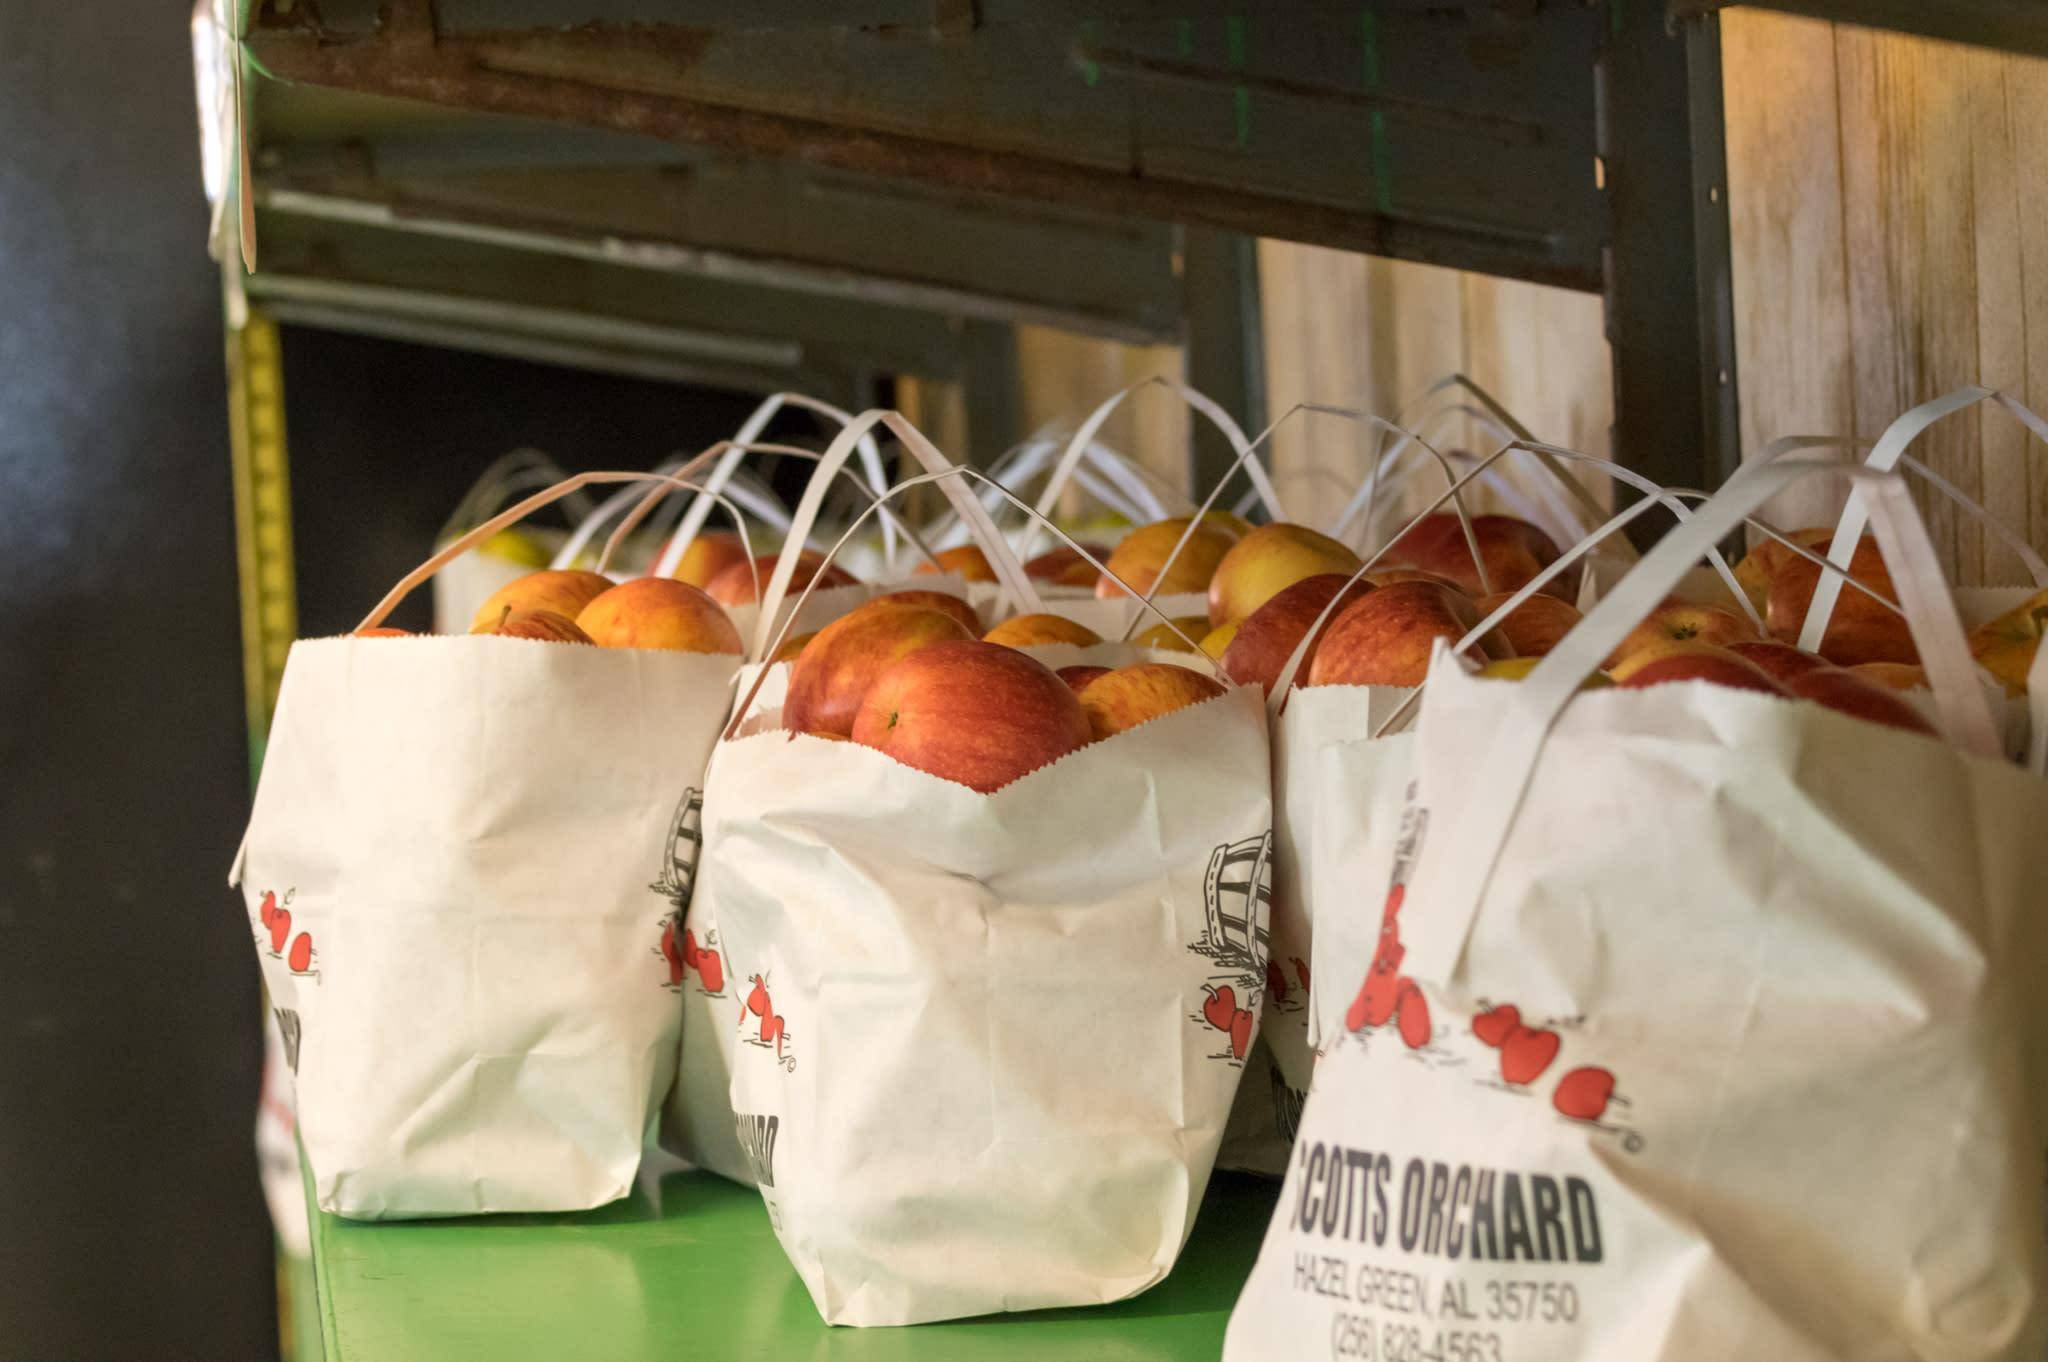apple: (854, 645, 1088, 793), (1310, 584, 1503, 695), (1202, 518, 1357, 632)
